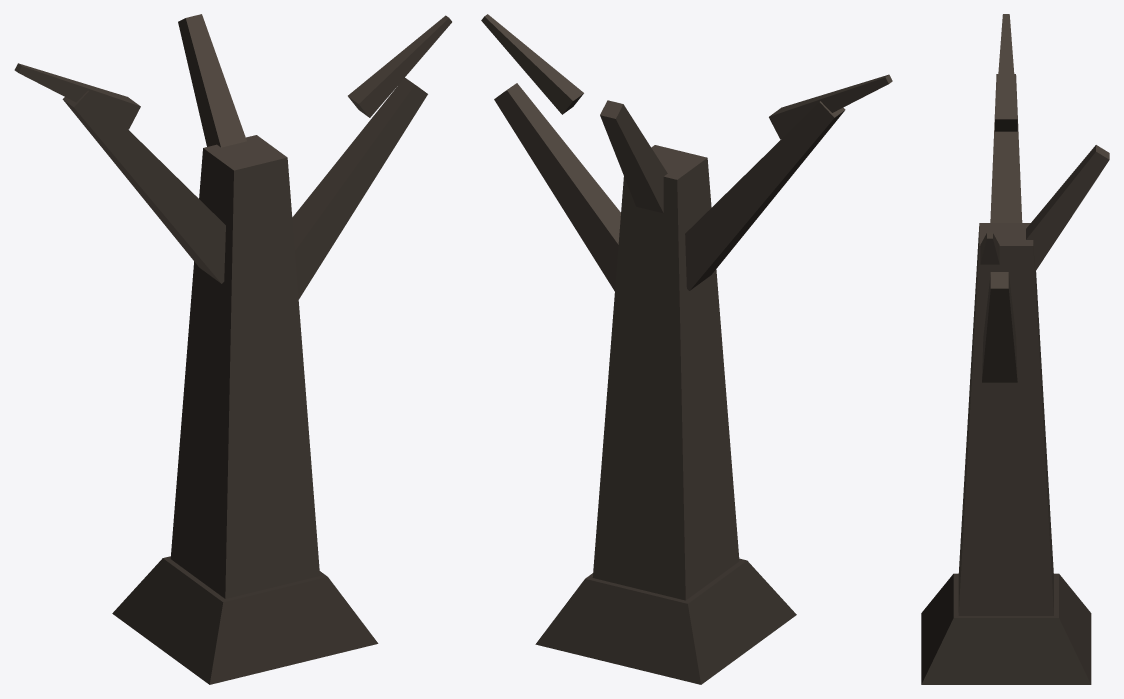
File: dead_tree.glb
The picture shows the model from 3 angles, left to right: view 1: azimuth 30°, elevation 25°; view 2: azimuth 150°, elevation 25°; view 3: azimuth 270°, elevation 25°; orthographic projection. The views are drawn at different scales.
Visible parts, largest first — view 1: dead_tree; view 2: dead_tree; view 3: dead_tree.
Part boxes in pixels (x1,y1,x2,y2): dead_tree: (14,14,451,684); dead_tree: (481,14,892,684); dead_tree: (921,14,1109,684).
Bounding box in the file's own units: 1.31 × 1.82 × 0.5762.
1 material, 1 textured.
